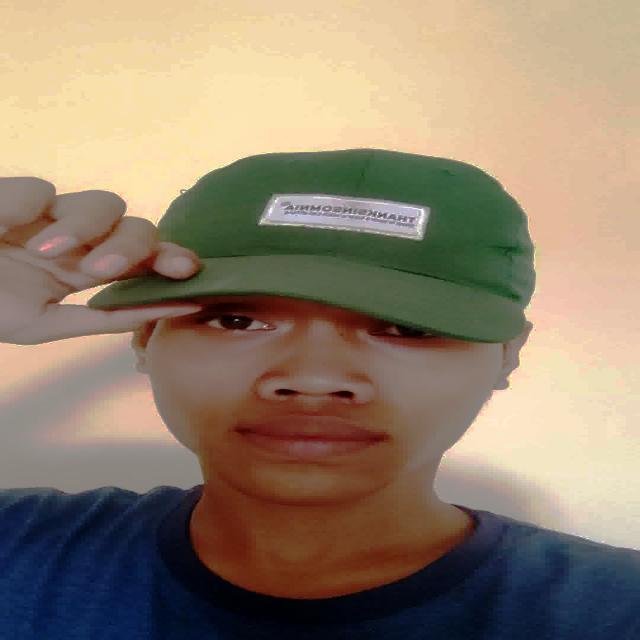TOPI: (77, 137, 572, 343)
